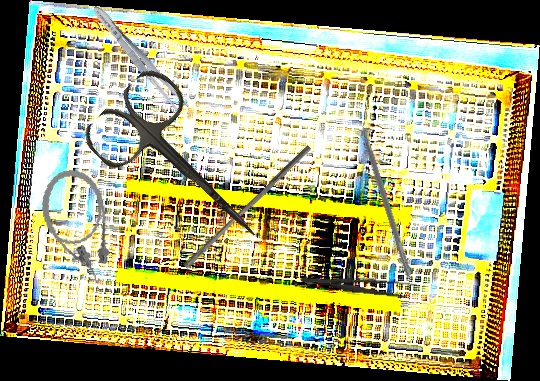Cannula: (36, 165, 118, 291)
Dressing Forceps: (87, 1, 192, 117), (299, 270, 418, 301)
Iris Scissors: (77, 61, 291, 275)
Pusher: (182, 140, 312, 273)
Spatula Surgical: (355, 118, 419, 277)
